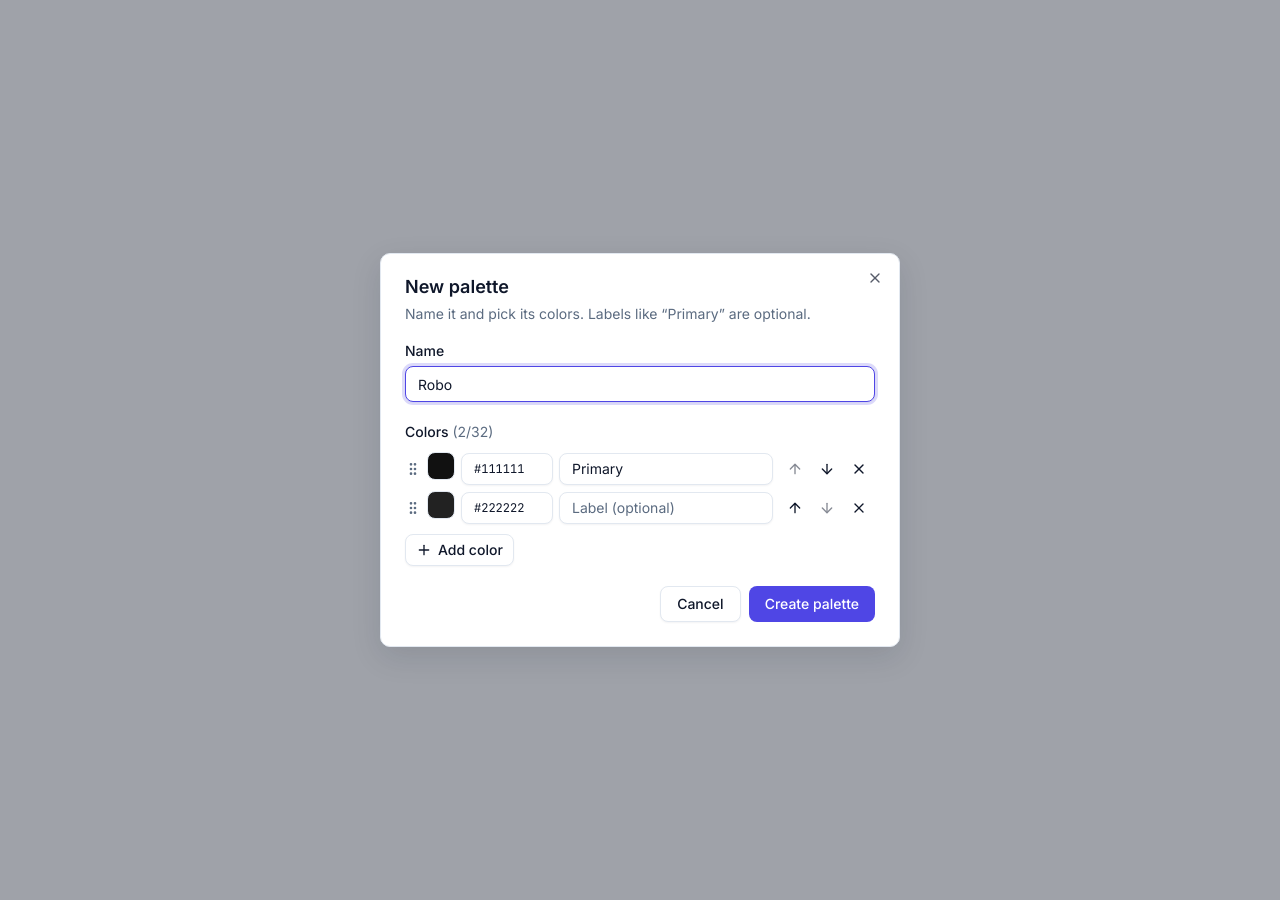
Scenario: PresetDialog › shows validation and server errors without closing
The width and height of the screenshot is (1280, 900).
Replace the text in the field named "Hex for color 1" with "#12": (507, 468) [461,452,553,484]
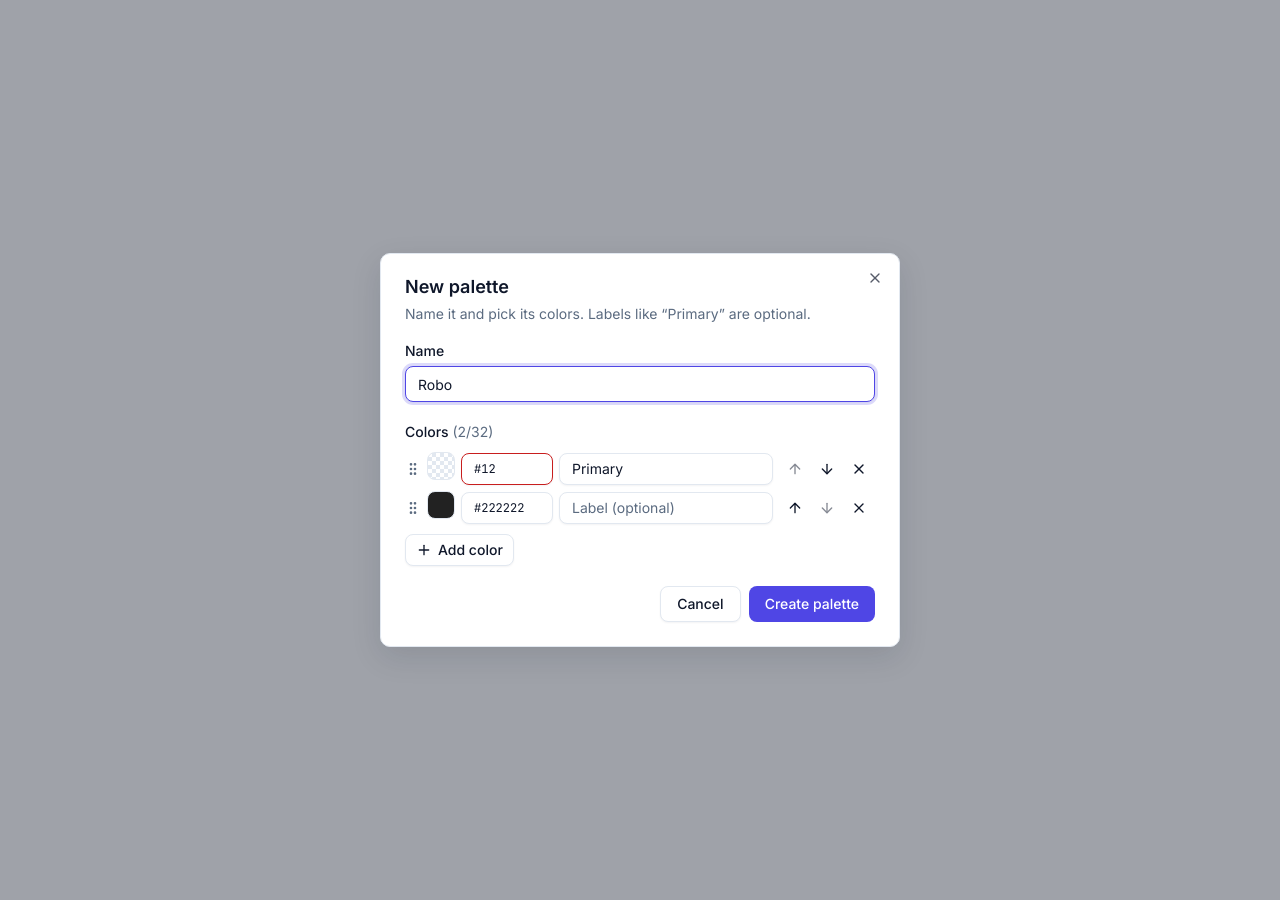
Click the button "Create palette": (812, 604) [749,586,875,622]
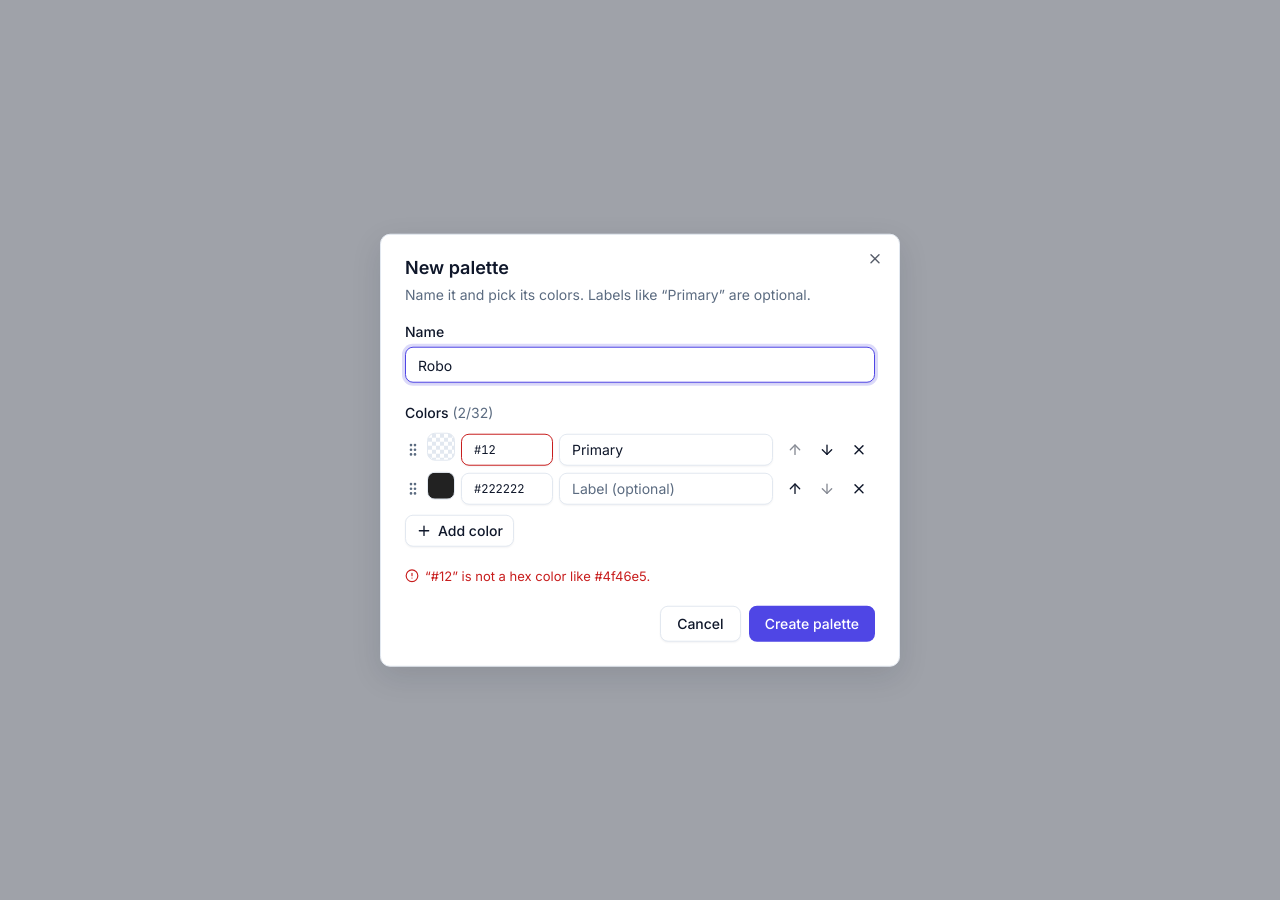
expect the message shows "“#12” is not a hex color": met, box [425,568,650,584]
Replace the text in the field named "Hex for color 1" with "#123456": (507, 449) [461,433,553,465]
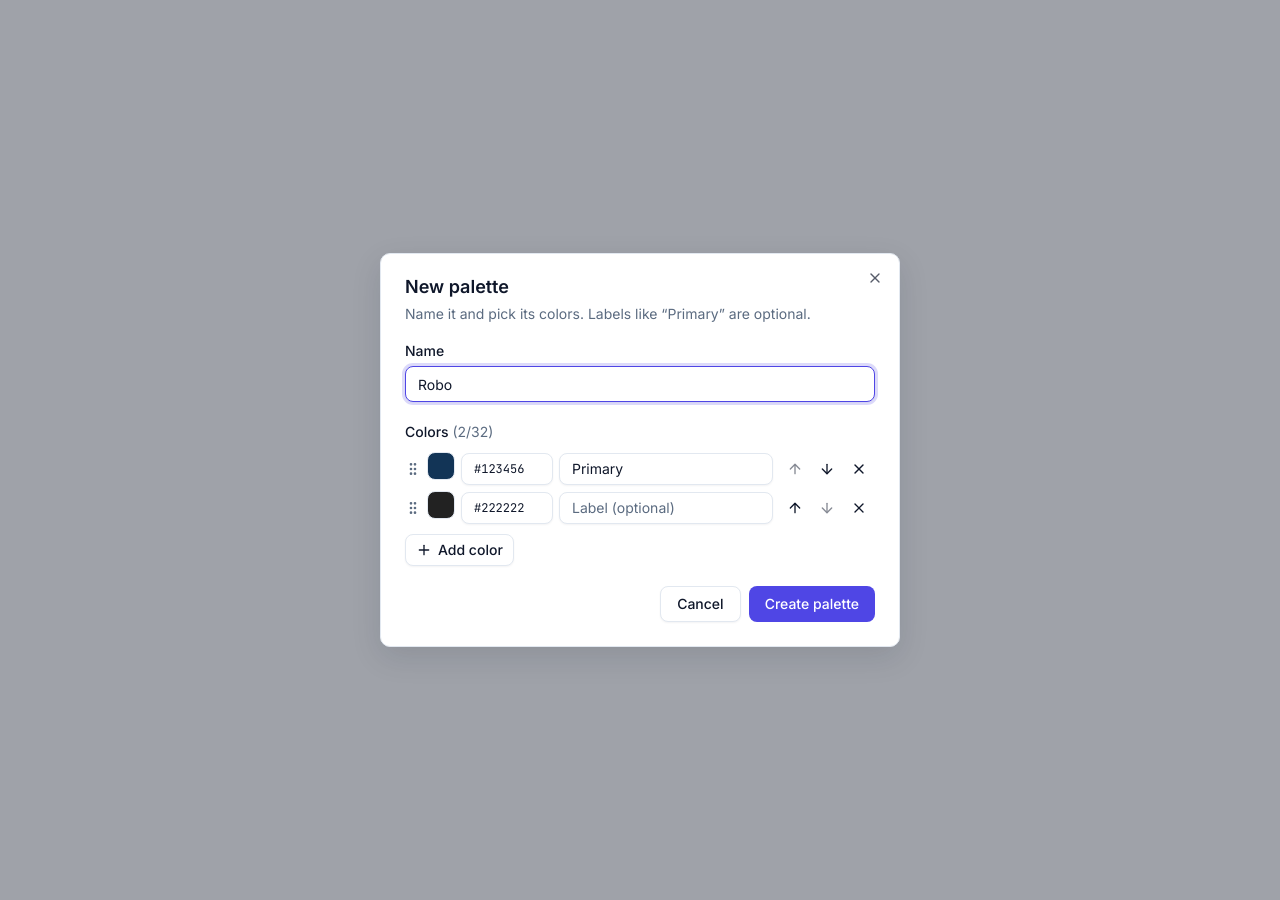
Click the button "Create palette": (812, 604) [749,586,875,622]
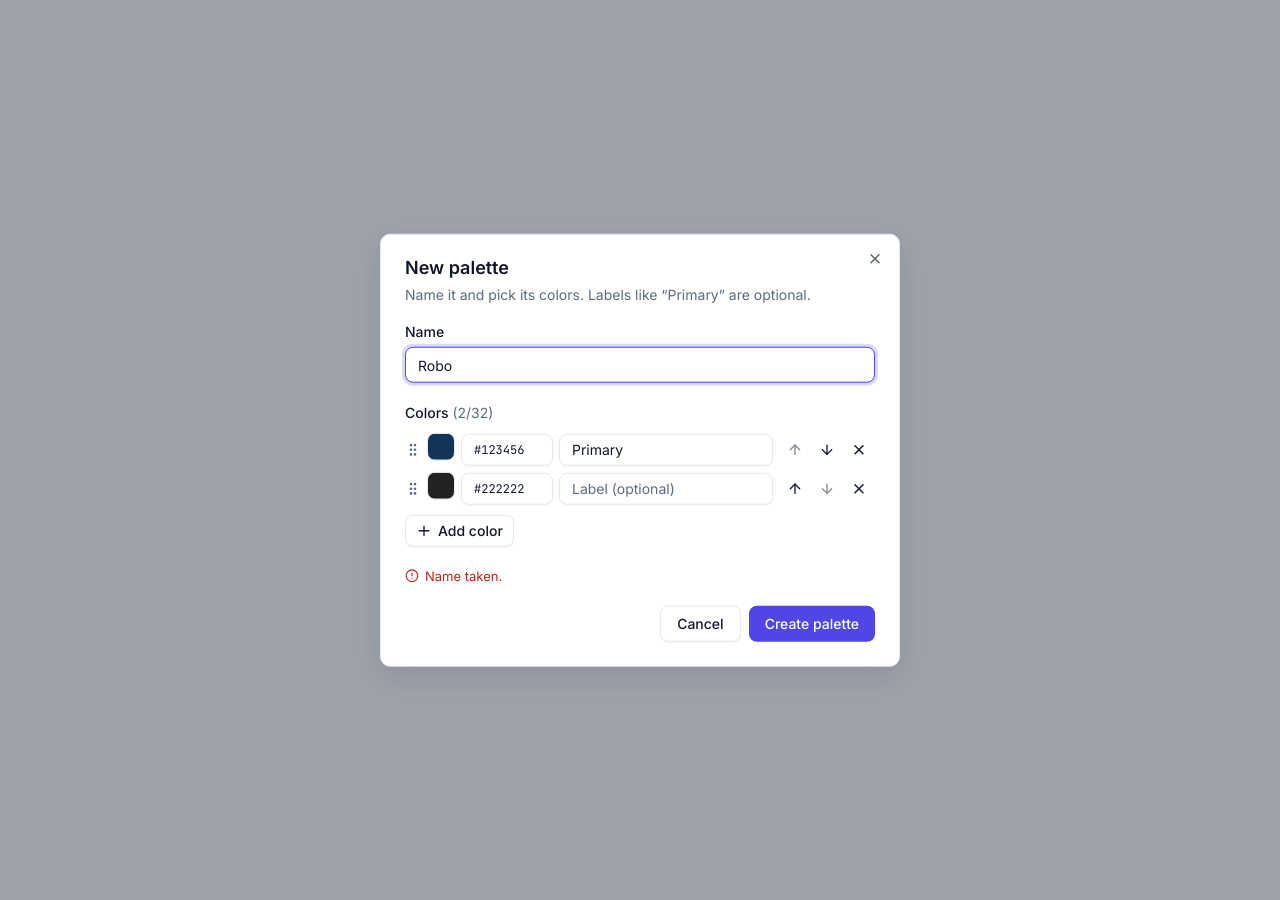
expect the message reads "Name taken.": met, box [425,568,502,584]
